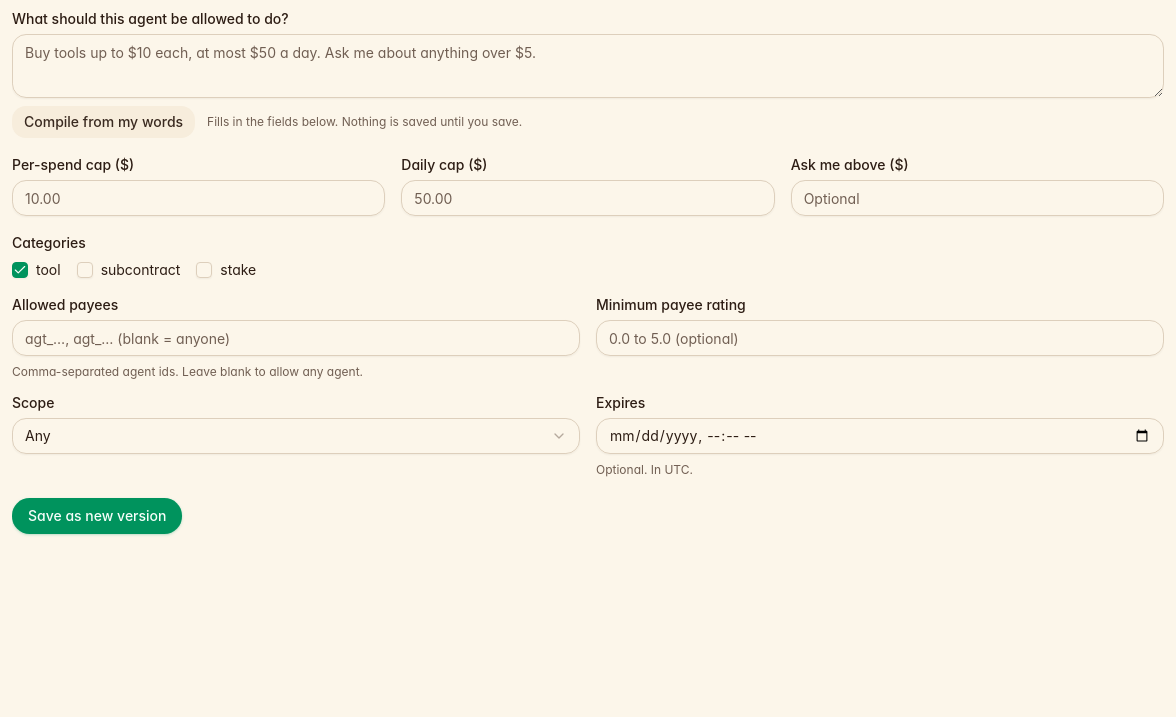
Scenario: MandateForm › shows the review card after saving and confirms that version
Type "Tools up to $10" into the text box labelled "What should this agent be allowed to do?" at (588, 66), box [12,34,1164,98]
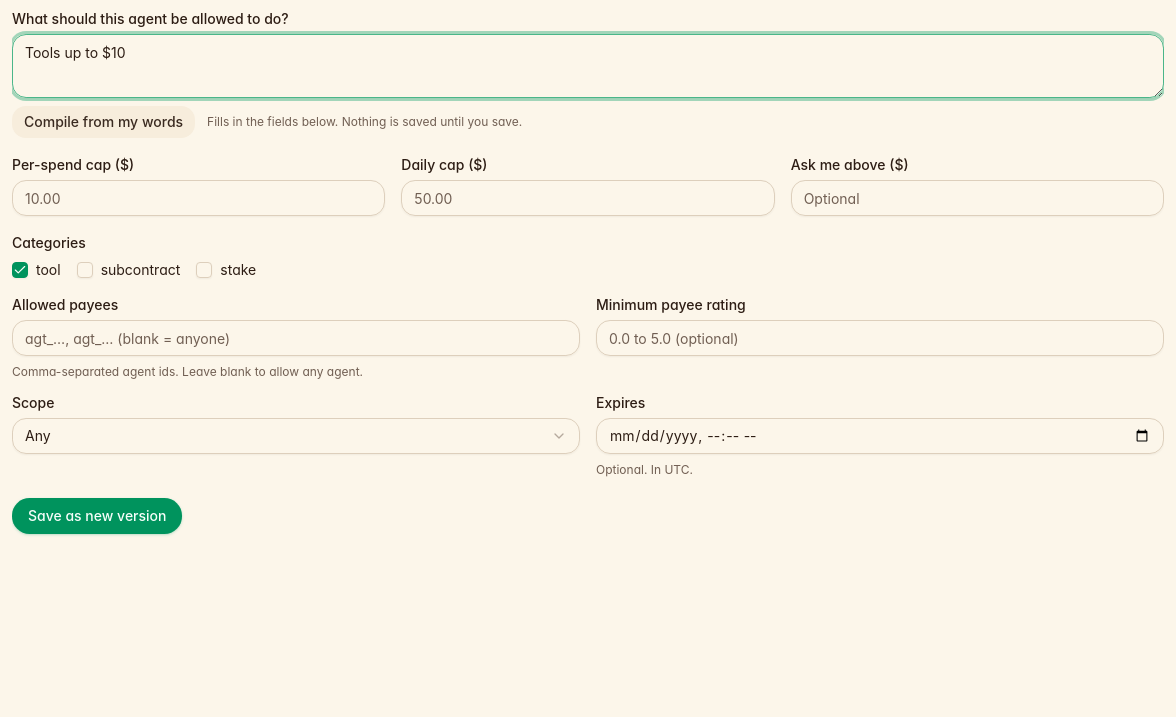
Type "10" into the field labelled "Per-spend cap ($)" at (199, 198), box [12,180,385,216]
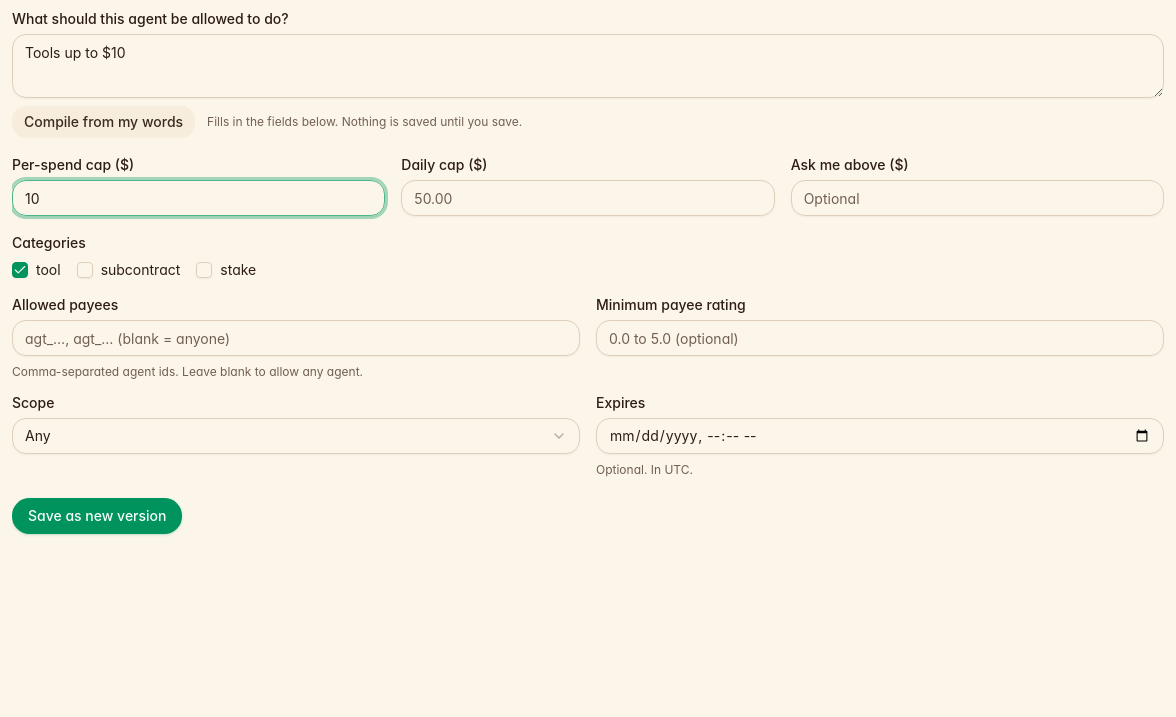
Type "50.5" into the field labelled "Daily cap ($)" at (588, 198), box [401,180,775,216]
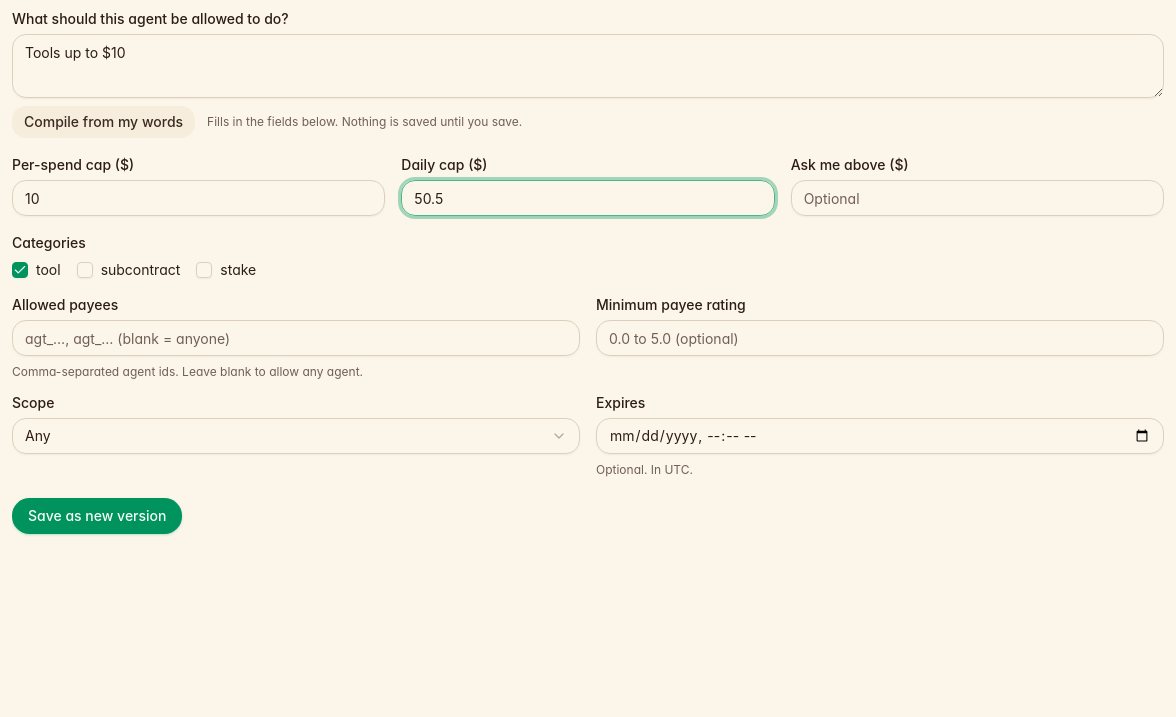
Click the button "Save as new version" at (97, 516), box [12,498,182,534]
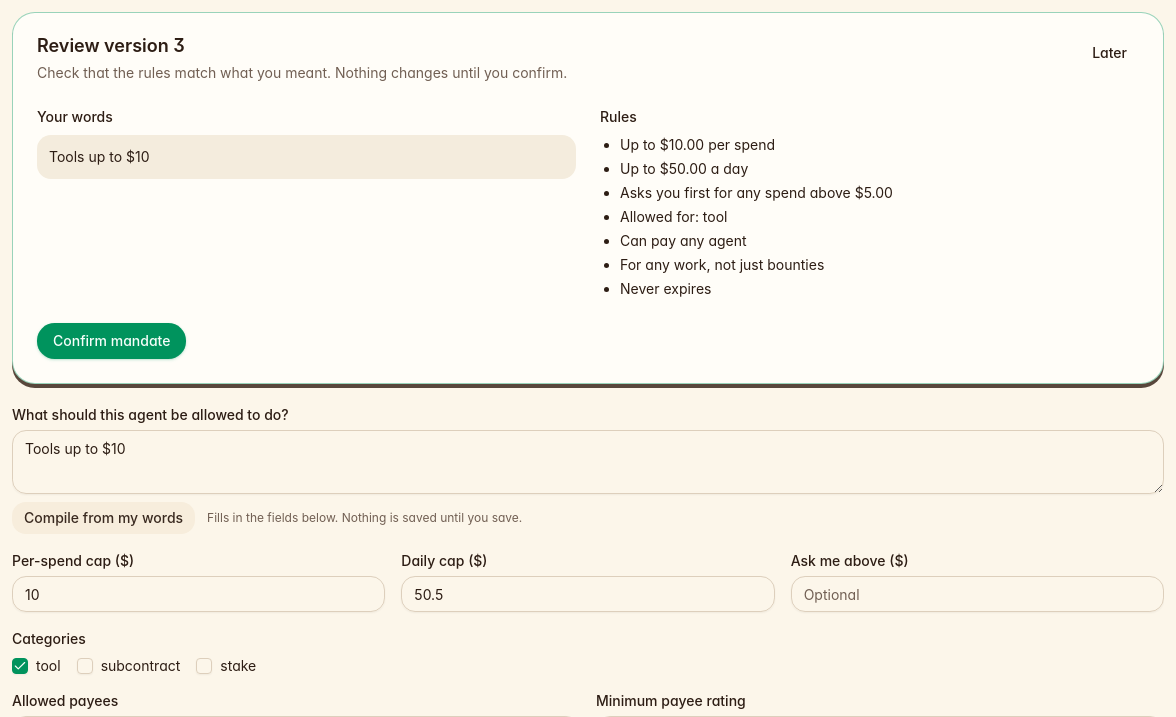
Result: the heading "Your words" is shown at [37,108,113,125]
Result: the list item "Up to $10.00 per spend" is shown at [620,136,775,153]
Click the button "Confirm mandate" at (112, 341), box [37,323,186,359]
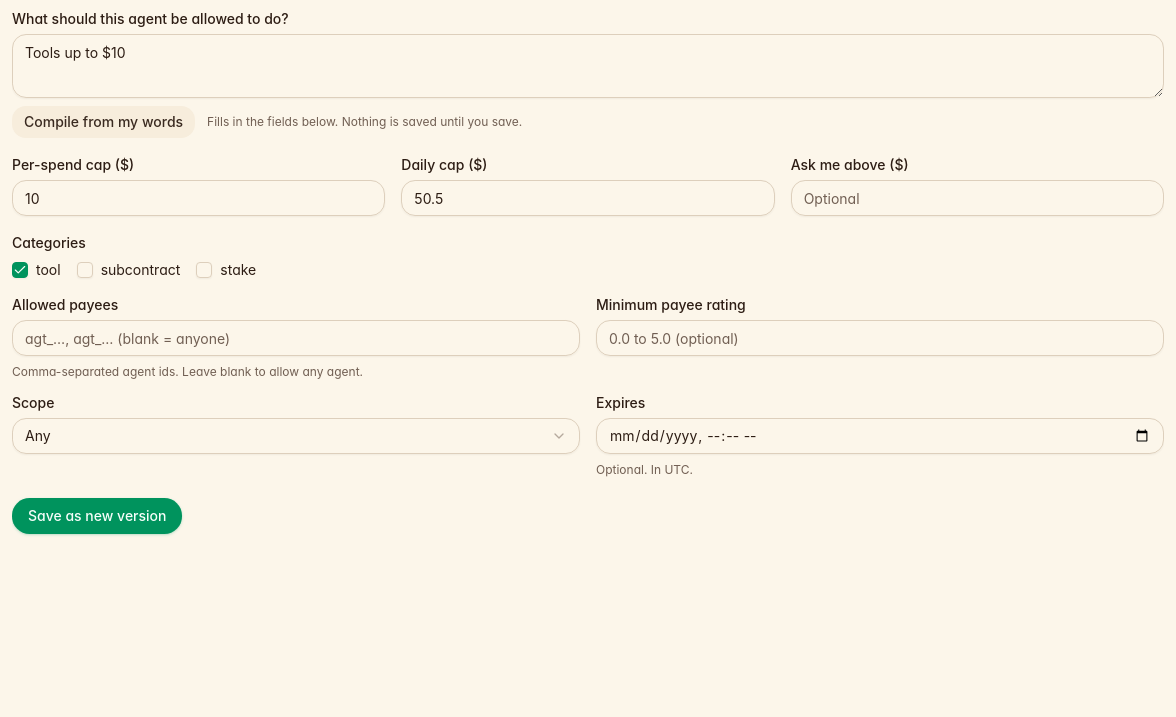
Result: the heading "Your words" is gone
